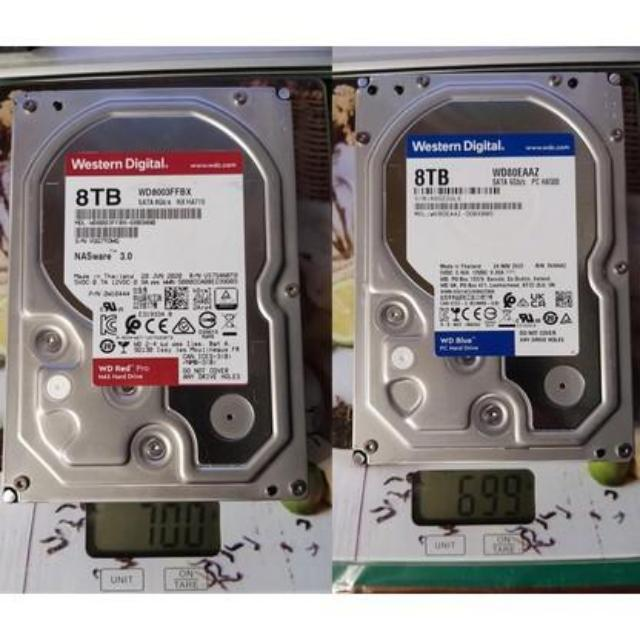DISK: (4, 86, 310, 500), (352, 66, 632, 460)
